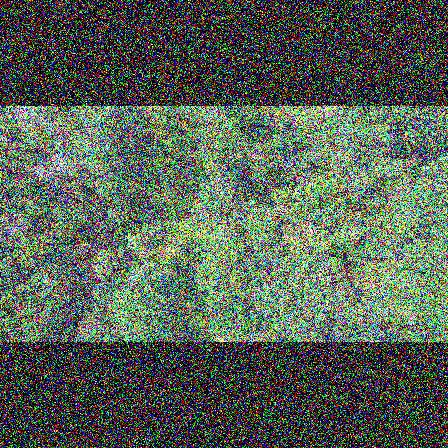Dead: (52, 157, 94, 175), (27, 168, 71, 183), (2, 108, 34, 126), (7, 222, 22, 238)
